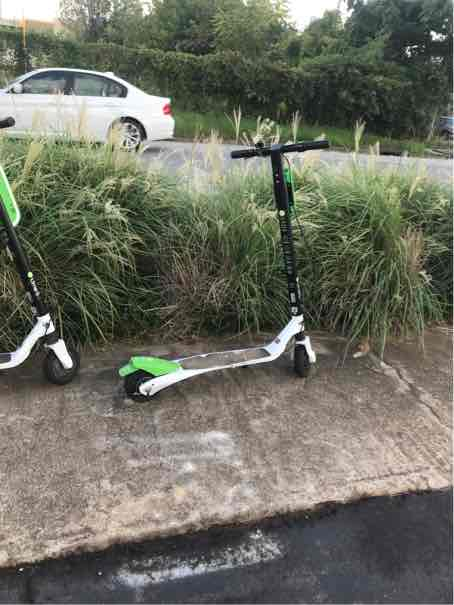scooter: (108, 130, 347, 406)
